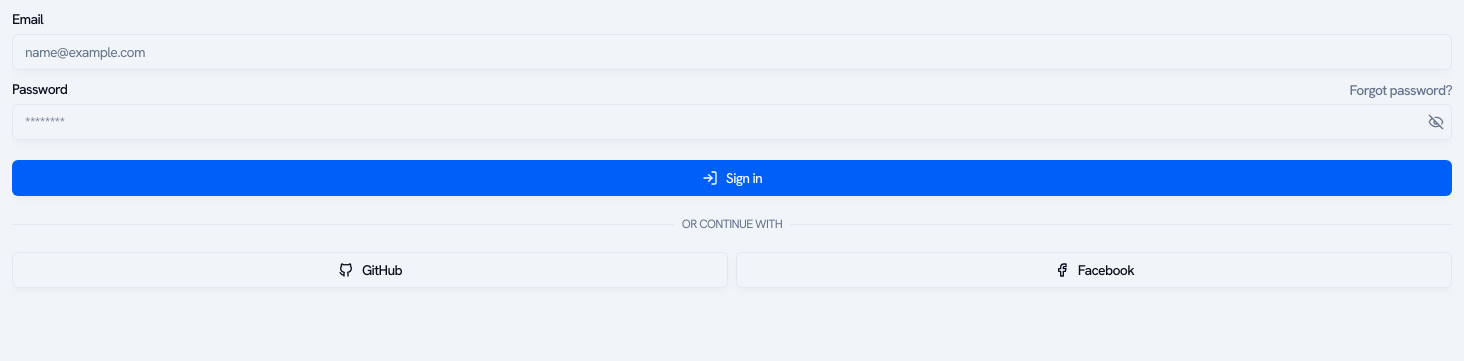
Test: UserAuthForm › Rendering without redirectTo › shows validation messages when submitting empty form
Click the button "Sign in". click: (732, 178)
box: [12, 160, 1452, 196]
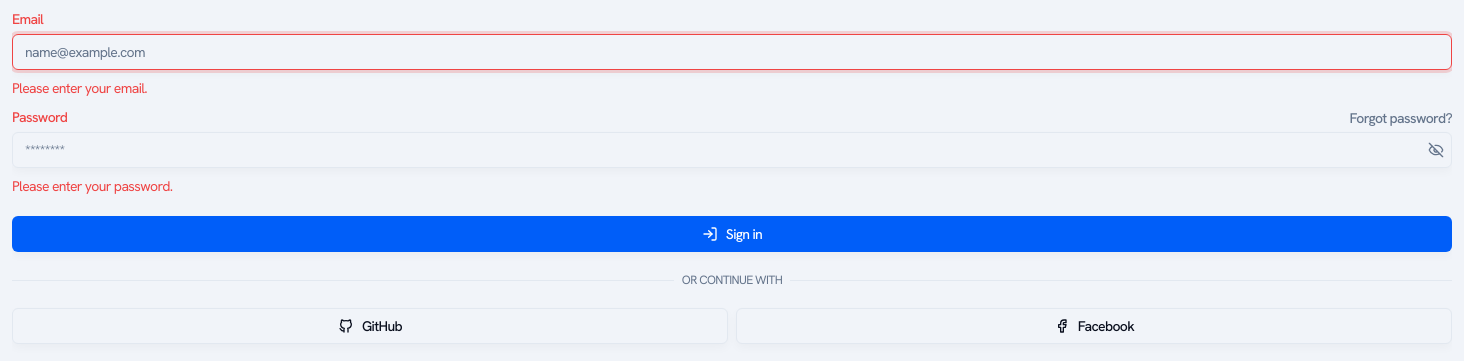
Check: the text "Please enter your email." is shown, box [12, 79, 147, 97]
